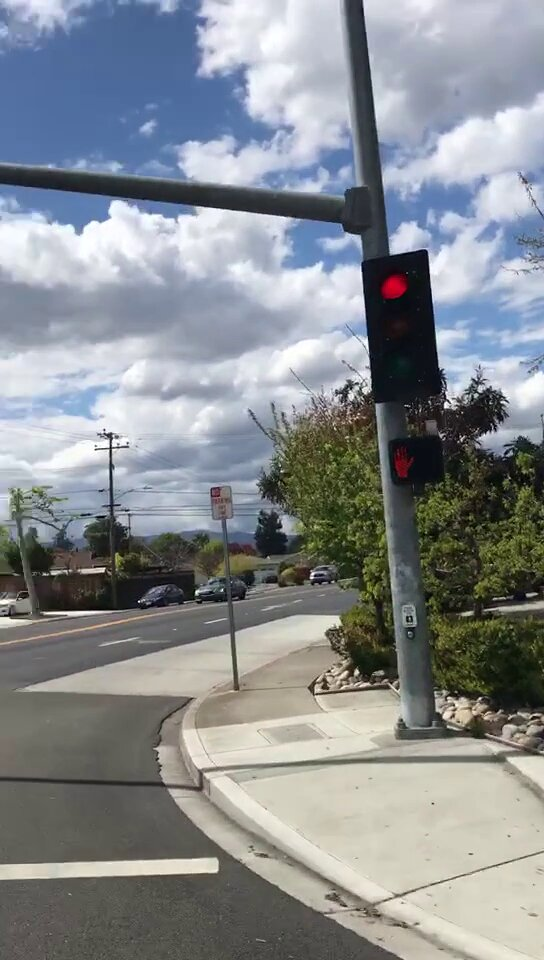red_light: (371, 258, 431, 397)
